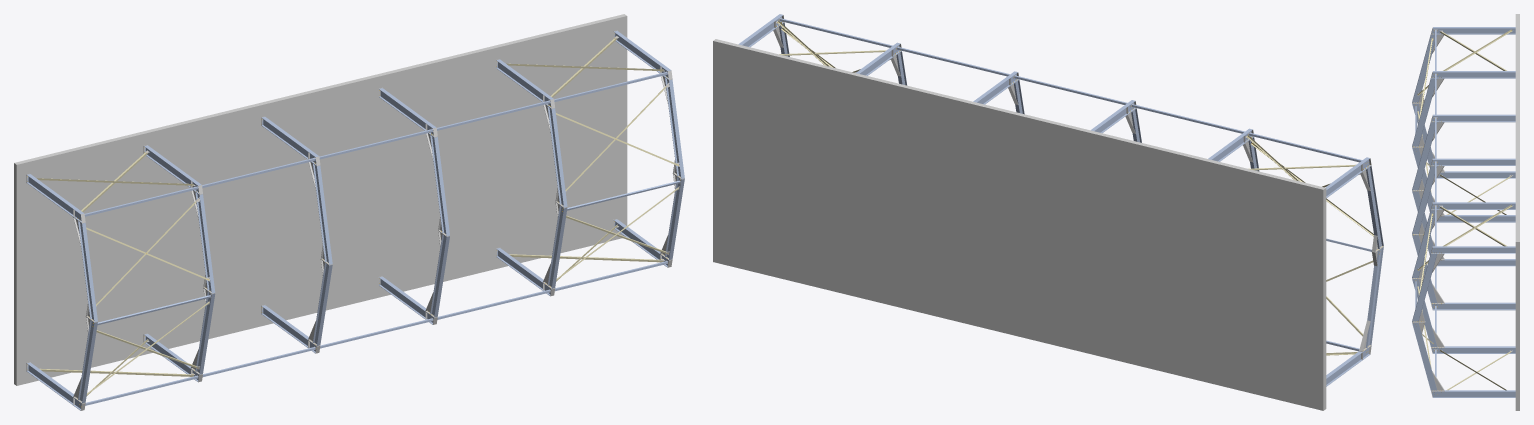
The picture shows the model from 3 angles, left to right: view 1: azimuth 30°, elevation 25°; view 2: azimuth 150°, elevation 25°; view 3: azimuth 270°, elevation 25°; orthographic projection. The views are drawn at different scales.
Visible parts, largest first — view 1: 0 101742 PL200x9000 BETON, 4 100354 IPE300 LIGGER, 5 101676 IPE300 LIGGER, 4 100270 IPE300 LIGGER, 4 100186 IPE300 LIGGER, 4 100102 IPE300 LIGGER, 4 100438 IPE300 LIGGER, 5 100383 IPE300 LIGGER, 4 100299 IPE300 LIGGER, 5 100047 IPE300 LIGGER, 4 100215 IPE300 LIGGER, 1 100017 IPE330 KOLOM (+11 smaller); view 2: 0 101742 PL200x9000 BETON, 5 100047 IPE300 LIGGER, 5 101676 IPE300 LIGGER; view 3: 0 101742 PL200x9000 BETON, 3 100185 IPE330 KOLOM, 3 100298 IPE330 KOLOM, 2 100437 IPE330 KOLOM, 2 100101 IPE330 KOLOM, 3 100269 IPE330 KOLOM, 1 100466 IPE330 KOLOM, 1 100353 IPE330 KOLOM, 1 100017 IPE330 KOLOM, 2 100382 IPE330 KOLOM, 13 100214 IPE330 KOLOM, 2 100046 IPE330 KOLOM (+21 smaller).
Boxes of the visible parts, bbox=[...] form: 0 101742 PL200x9000 BETON: bbox=[14, 14, 627, 385]; 4 100354 IPE300 LIGGER: bbox=[547, 107, 567, 207]; 5 101676 IPE300 LIGGER: bbox=[78, 221, 97, 322]; 4 100270 IPE300 LIGGER: bbox=[430, 135, 449, 236]; 4 100186 IPE300 LIGGER: bbox=[312, 164, 332, 264]; 4 100102 IPE300 LIGGER: bbox=[195, 192, 215, 293]; 4 100438 IPE300 LIGGER: bbox=[665, 78, 684, 178]; 5 100383 IPE300 LIGGER: bbox=[547, 205, 567, 288]; 4 100299 IPE300 LIGGER: bbox=[430, 234, 449, 317]; 5 100047 IPE300 LIGGER: bbox=[78, 320, 97, 403]; 4 100215 IPE300 LIGGER: bbox=[312, 263, 332, 345]; 1 100017 IPE330 KOLOM: bbox=[26, 174, 83, 222]; 0 101742 PL200x9000 BETON: bbox=[713, 39, 1326, 410]; 5 100047 IPE300 LIGGER: bbox=[1365, 247, 1383, 348]; 5 101676 IPE300 LIGGER: bbox=[1366, 166, 1383, 248]; 0 101742 PL200x9000 BETON: bbox=[1515, 14, 1519, 410]; 3 100185 IPE330 KOLOM: bbox=[1431, 114, 1515, 122]; 3 100298 IPE330 KOLOM: bbox=[1431, 302, 1515, 310]; 2 100437 IPE330 KOLOM: bbox=[1431, 246, 1515, 253]; 2 100101 IPE330 KOLOM: bbox=[1431, 71, 1515, 78]; 3 100269 IPE330 KOLOM: bbox=[1431, 158, 1515, 165]; 1 100466 IPE330 KOLOM: bbox=[1431, 390, 1515, 397]; 1 100353 IPE330 KOLOM: bbox=[1431, 202, 1515, 209]; 1 100017 IPE330 KOLOM: bbox=[1431, 27, 1515, 34]; 2 100382 IPE330 KOLOM: bbox=[1431, 346, 1515, 353]; 13 100214 IPE330 KOLOM: bbox=[1437, 259, 1515, 266]; 2 100046 IPE330 KOLOM: bbox=[1437, 171, 1515, 178].
Bounding box in the file's own units: 26000 × 9000 × 5196.
